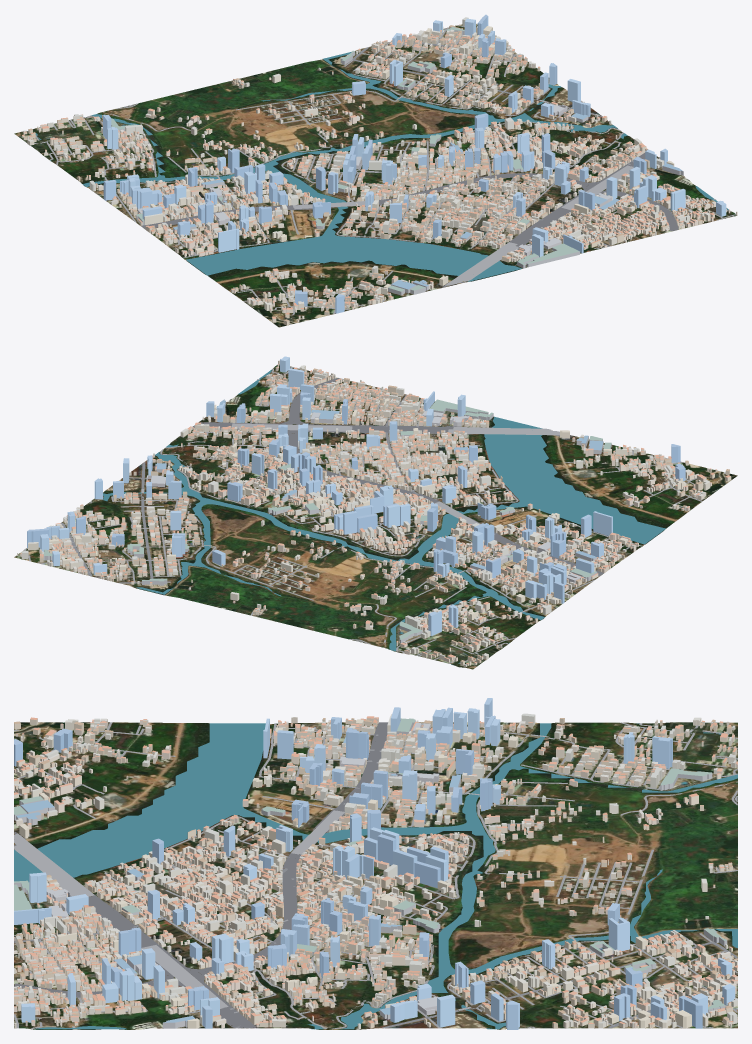
3 renders of one model, top to bottom at view 1: azimuth 30°, elevation 25°; view 2: azimuth 150°, elevation 25°; view 3: azimuth 270°, elevation 25°, orthographic. The views are drawn at different scales.
Parts seen in each view (by area): view 1: TERRAIN, BLDG_TUBE_SHOPHOUSE, BLDG_MODERN_TOWER, WATER, ROAD_METRO, BLDG_APARTMENT, BLDG_INDUSTRIAL_PORT; view 2: TERRAIN, BLDG_TUBE_SHOPHOUSE, BLDG_MODERN_TOWER, WATER, ROAD_METRO, BLDG_APARTMENT, BLDG_INDUSTRIAL_PORT; view 3: TERRAIN, BLDG_TUBE_SHOPHOUSE, BLDG_MODERN_TOWER, WATER, ROAD_METRO, BLDG_APARTMENT, BLDG_INDUSTRIAL_PORT.
Part boxes in pixels (x1,y1,x2,y2): TERRAIN: [14, 24, 736, 327]; BLDG_TUBE_SHOPHOUSE: [22, 25, 737, 325]; BLDG_MODERN_TOWER: [103, 14, 726, 313]; WATER: [34, 52, 728, 281]; ROAD_METRO: [34, 25, 735, 324]; BLDG_APARTMENT: [27, 17, 710, 311]; BLDG_INDUSTRIAL_PORT: [111, 26, 683, 295]; TERRAIN: [14, 364, 737, 669]; BLDG_TUBE_SHOPHOUSE: [17, 360, 731, 666]; BLDG_MODERN_TOWER: [27, 356, 685, 635]; WATER: [103, 370, 669, 665]; ROAD_METRO: [24, 364, 725, 663]; BLDG_APARTMENT: [21, 365, 710, 660]; BLDG_INDUSTRIAL_PORT: [43, 399, 611, 643]; TERRAIN: [14, 722, 737, 1029]; BLDG_TUBE_SHOPHOUSE: [14, 716, 737, 1029]; BLDG_MODERN_TOWER: [14, 698, 735, 1029]; WATER: [14, 723, 737, 1029]; ROAD_METRO: [14, 722, 737, 1029]; BLDG_APARTMENT: [18, 713, 737, 1028]; BLDG_INDUSTRIAL_PORT: [14, 718, 727, 1028].
Size of the model in its own units: 2000 by 90.15 by 2000.
7 materials, 1 textured.
